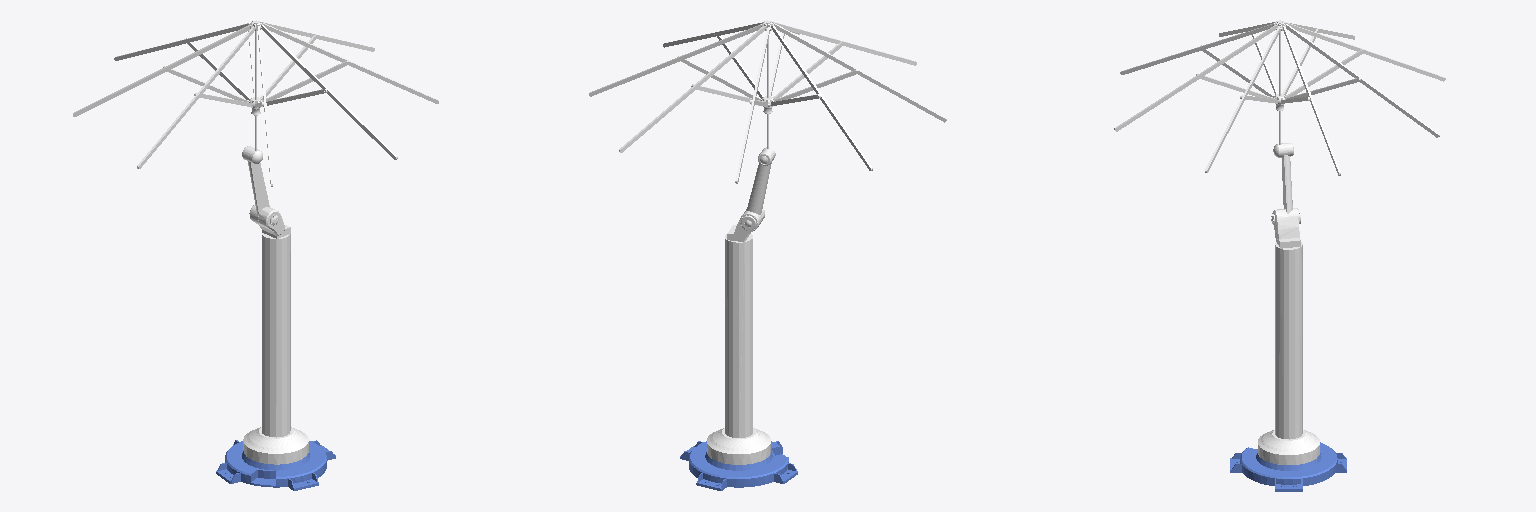
URDF robot description (robotmilagro):
<?xml version="1.0" encoding="utf-8"?>
<robot
  name="robotmilagro">
  <link
    name="base2_Link">
    <inertial>
      <origin
        xyz="0.00530265169310419 0.00528029914101924 0.0513462352345183"
        rpy="0 0 0" />
      <mass
        value="37.3619805208222" />
      <inertia
        ixx="1.07878719190163"
        ixy="0.0421503007964398"
        ixz="0.00134509247170474"
        iyy="1.07844693370143"
        iyz="0.00131074568973874"
        izz="2.0532044687573" />
    </inertial>
    <visual>
      <origin
        xyz="0 0 0"
        rpy="0 0 0" />
      <geometry>
        <mesh
          filename="package://robot_milagro/meshes/base_Link.STL" />
      </geometry>
      <material
        name="">
        <color
          rgba="0.458 0.6 0.92564 1" />
      </material>
    </visual>
    <collision>
      <origin
        xyz="0 0 0"
        rpy="0 0 0" />
      <geometry>
        <mesh
          filename="package://robot_milagro/meshes/base_Link.STL" />
      </geometry>
    </collision>
  </link>
  <link
    name="Link1">
    <inertial>
      <origin
        xyz="-0.00150165357461152 -0.00252217720068532 -0.728144343309596"
        rpy="0 0 0" />
      <mass
        value="68.2835579500472" />
      <inertia
        ixx="22.0411080887108"
        ixy="-0.00744416311395271"
        ixz="-0.109354248005661"
        iyy="22.0362256160777"
        iyz="-0.182138134559127"
        izz="0.69058697507177" />
    </inertial>
    <visual>
      <origin
        xyz="0 0 0"
        rpy="0 0 0" />
      <geometry>
        <mesh
          filename="package://robot_milagro/meshes/Link_Tronco.STL" />
      </geometry>
      <material
        name="">
        <color
          rgba="1 1 1 1" />
      </material>
    </visual>
    <collision>
      <origin
        xyz="0 0 0"
        rpy="0 0 0" />
      <geometry>
        <mesh
          filename="package://robot_milagro/meshes/Link_Tronco.STL" />
      </geometry>
    </collision>
  </link>
  <joint
    name="joint1"
    type="continuous">
    <origin
      xyz="0 0 0.115"
      rpy="3.14159265358979 0 1.5707963267949" />
    <parent
      link="base2_Link" />
    <child
      link="Link1" />
    <axis
      xyz="0 0 -1" />
    <dynamics damping="10.0" friction="1.0"/>
  </joint>
  <link
    name="Link2">
    <inertial>
      <origin
        xyz="-0.10960215630603 -0.162603141614655 -0.0359086013656229"
        rpy="0 0 0" />
      <mass
        value="3.56831911575463" />
      <inertia
        ixx="0.0934857213432759"
        ixy="-0.0594303944632466"
        ixz="0.00240172284703"
        iyy="0.0453732762018966"
        iyz="0.00356378352311933"
        izz="0.134285524788038" />
    </inertial>
    <visual>
      <origin
        xyz="0 0 0"
        rpy="0 0 0" />
      <geometry>
        <mesh
          filename="package://robot_milagro/meshes/Link_Brazo.STL" />
      </geometry>
      <material
        name="">
        <color
          rgba="1 1 1 1" />
      </material>
    </visual>
    <collision>
      <geometry>
      	<mesh
          filename="package://robot_milagro/meshes/Link_Brazo.STL" />
      </geometry>
    </collision>
  </link>
  <joint
    name="joint2"
    type="revolute">
    <origin
      xyz="-0.0228488334918947 -0.0973546650554546 -1.807"
      rpy="1.5707963267949 -0.806517129584187 -1.80132098574088" />
    <parent
      link="Link1" />
    <child
      link="Link2" />
    <axis
      xyz="0 0 -1" />
    <limit effort ="10000000.0" lower="-1.35" upper="1.77" velocity="10000"/>
    <dynamics damping="10.0" friction="1.0"/>
  </joint>
  <link
    name="Link3">
    <inertial>
      <origin
        xyz="-0.00964072600716015 0.00175734371701308 -0.0223572981519106"
        rpy="0 0 0" />
      <mass
        value="0.444659484764021" />
      <inertia
        ixx="0.000336427550419971"
        ixy="-1.24122241005367E-10"
        ixz="3.85623975649894E-12"
        iyy="0.000343541608011627"
        iyz="1.8439400313236E-06"
        izz="0.000462240088009121" />
    </inertial>
    <visual>
      <origin
        xyz="0 0 0"
        rpy="0 0 0" />
      <geometry>
        <mesh
          filename="package://robot_milagro/meshes/Link_Union.STL" />
      </geometry>
      <material
        name="">
        <color
          rgba="1 1 1 1" />
      </material>
    </visual>
    <collision>
      <origin
        xyz="0 0 0"
        rpy="0 0 0" />
      <geometry>
        <mesh
          filename="package://robot_milagro/meshes/Link_Union.STL" />
      </geometry>
    </collision>
  </link>
  <joint
    name="joint3"
    type="revolute">
    <origin
      xyz="-0.27121 -0.42005 0"
      rpy="-3.1416 0 -0.8082" />
    <parent
      link="Link2" />
    <child
      link="Link3" />
    <axis
      xyz="0 0 1" />
    <limit effort ="10000000.0" lower="-1.75" upper="1.38" velocity="10000"/>
    <dynamics damping="10.0" friction="1.0"/>
  </joint>
  <link
    name="Link4">
    <inertial>
      <origin
        xyz="0.0192054951866207 -0.0663350240305418 -0.487433962179927"
        rpy="0 0 0" />
      <mass
        value="0.176714586764426" />
      <inertia
        ixx="0.0146977411293204"
        ixy="0.000103264855187528"
        ixz="0.000666496037835187"
        iyy="0.0143842623599113"
        iyz="-0.00222308674393347"
        izz="0.0003803678336781" />
    </inertial>
    <visual>
      <origin
        xyz="0 0 0"
        rpy="0 0 0" />
      <geometry>
        <mesh
          filename="package://robot_milagro/meshes/Link_Palo.STL" />
      </geometry>
      <material
        name="">
        <color
          rgba="1 1 1 1" />
      </material>
    </visual>
    <collision>
      <origin
        xyz="0 0 0"
        rpy="0 0 0" />
      <geometry>
        <mesh
          filename="package://robot_milagro/meshes/Link_Palo.STL" />
      </geometry>
    </collision>
  </link>
  <joint
    name="joint4"
    type="fixed">
    <origin
      xyz="4.2164E-05 0.025 -0.0175"
      rpy="1.6015 -1.2127 0.1312" />
    <parent
      link="Link3" />
    <child
      link="Link4" />
    <axis
      xyz="0.045855 -0.15295 -0.98717" />
    <dynamics damping="10.0" friction="1.0"/>
  </joint>
  <link
    name="Link5">
    <inertial>
      <origin
        xyz="0.0174999997388959 0.00730798787720233 -0.627018407775032"
        rpy="0 0 0" />
      <mass
        value="5.37132751326918" />
      <inertia
        ixx="0.338769991177507"
        ixy="-7.35766031434437E-11"
        ixz="-4.14342968030508E-11"
        iyy="0.33876999082987"
        iyz="-1.40698678565126E-10"
        izz="0.443057941792724" />
    </inertial>
    <visual>
      <origin
        xyz="0 0 0"
        rpy="0 0 0" />
      <geometry>
        <mesh
          filename="package://robot_milagro/meshes/Link_Sombrilla.STL" />
      </geometry>
      <material
        name="">
        <color
          rgba="1 1 1 1" />
      </material>
    </visual>
    <collision>
      <origin
        xyz="0 0 0"
        rpy="0 0 0" />
      <geometry>
        <mesh
          filename="package://robot_milagro/meshes/Link_Sombrilla.STL" />
      </geometry>
    </collision>
  </link>
  <joint
    name="joint5"
    type="fixed">
    <origin
      xyz="-0.016949 0.0056692 0"
      rpy="1.5708 1.5708 0" />
    <parent
      link="Link3" />
    <child
      link="Link5" />
    <axis
      xyz="0 0 0" />
    <dynamics damping="10.0" friction="1.0"/>
  </joint>
  
  <ros2_control name="GazeboSystem" type="system">
    <hardware>
      <plugin>gazebo_ros2_control/GazeboSystem</plugin>
    </hardware>
    
    <joint name="joint1">
      <command_interface name="position">
        <param name="min">-10</param>
        <param name="max">10</param>
      </command_interface>
      <state_interface name="position"/>
      <state_interface name="velocity"/>
      <state_interface name="effort"/>
    </joint> >
    <joint name="joint2">
      <command_interface name="position">
        <param name="min">1</param>
        <param name="max">1</param>
      </command_interface>
      <state_interface name="position"/>
      <state_interface name="velocity"/>
      <state_interface name="effort"/>
    </joint> >

    <joint name="joint3">
      <command_interface name="position">
        <param name="min">1</param>
        <param name="max">1</param>
      </command_interface>
      <state_interface name="position"/>
      <state_interface name="velocity"/>
      <state_interface name="effort"/>
    </joint> >
  </ros2_control>
  
  <gazebo>
      <plugin filename="libgazebo_ros2_control.so" name="gazebo_ros2_control">
        <robot_sim_type>gazebo_ros2_control/GazeboSystem</robot_sim_type>
         <parameters>[local-path]/WorkFinal/src/robot_milagro/config/emisor.yaml</parameters>
      </plugin>
    </gazebo>



<gazebo reference="bas2_Link">
<material>Gazebo/Orange</material>
</gazebo>
<gazebo reference="Link1">
<material>Gazebo/Orange</material>
</gazebo>
<gazebo reference="Link2">
<material>Gazebo/Orange</material>
</gazebo>
<gazebo reference="Link3">
<material>Gazebo/Orange</material>
</gazebo>
<gazebo reference="Link4">
<material>Gazebo/White</material>
</gazebo>
<gazebo reference="Link5">
<material>Gazebo/White</material>
</gazebo>

</robot>

--- Render facts (derived) ---
3 views of the same robot in one strip: view 1: azimuth 30°, elevation 25°; view 2: azimuth 150°, elevation 25°; view 3: azimuth 270°, elevation 25° (orthographic).
Model robotmilagro with 6 links and 5 joints (2 revolute, 1 continuous, 2 fixed), rooted at base2_Link, posed every joint at zero.
Links seen in each view (by area): view 1: Link1, Link5, base2_Link, Link2; view 2: Link1, Link5, base2_Link, Link2; view 3: Link1, Link5, base2_Link, Link2.
Boxes of the visible links, x1,y1,x2,y2 form: Link1: (243,207,308,464); Link5: (73,20,438,186); base2_Link: (216,440,335,490); Link2: (242,146,269,224); Link1: (707,209,770,464); Link5: (589,20,946,183); base2_Link: (680,441,797,490); Link2: (740,149,773,231); Link1: (1258,209,1319,464); Link5: (1114,20,1445,175); base2_Link: (1230,442,1346,491); Link2: (1281,143,1300,224).
Bounding box of the posed robot: 2.38 × 2.38 × 3.43 m (x, y, z).
6 mesh visuals loaded from 6 distinct referenced files (6 binary STL).
